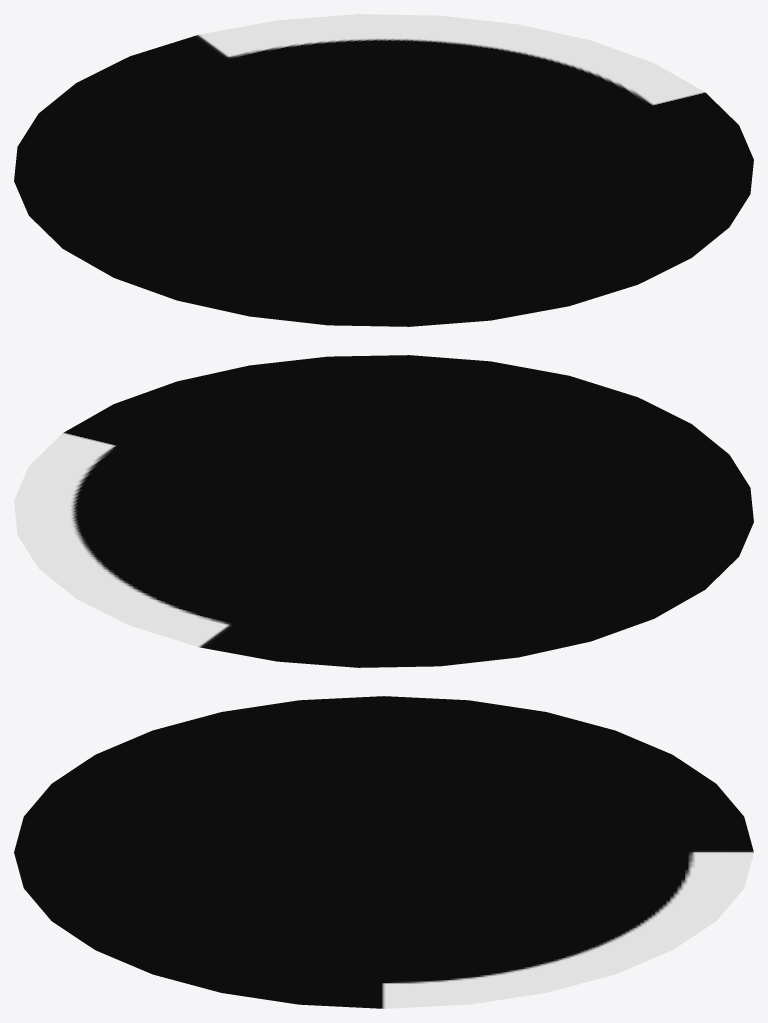
File: GizmoRotationCircle.fbx
The picture shows the model from 3 angles, top to bottom: view 1: azimuth 30°, elevation 25°; view 2: azimuth 150°, elevation 25°; view 3: azimuth 270°, elevation 25°; orthographic projection.
Visible parts, largest first — view 1: GizmoRotationCircle; view 2: GizmoRotationCircle; view 3: GizmoRotationCircle.
Boxes of the visible parts, x1,y1,x2,y2 form: GizmoRotationCircle: (14,14,753,326); GizmoRotationCircle: (14,355,753,667); GizmoRotationCircle: (14,696,753,1008).
Size of the model in its own units: 2 by 2 by 0.
Materials: 1 (1 with a texture image).
